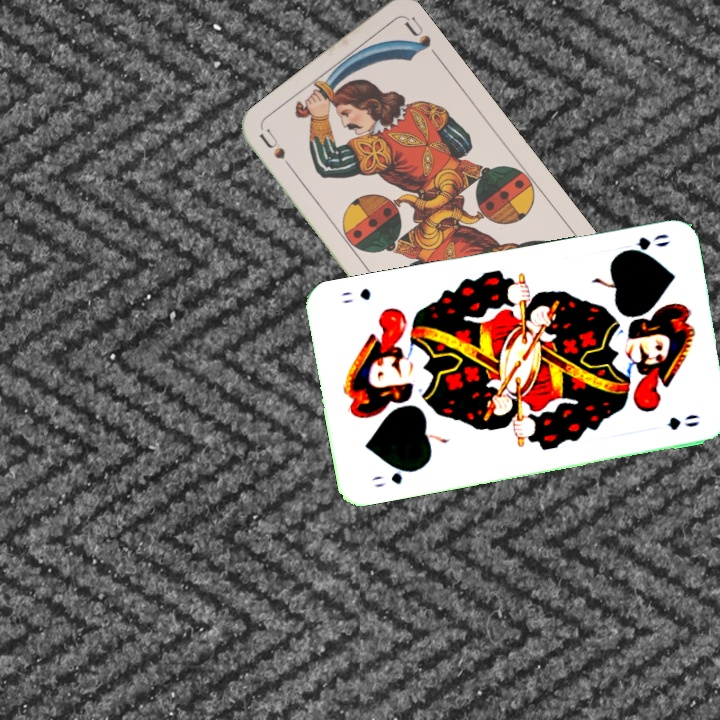GO: (614, 230, 672, 258), (367, 464, 420, 490)
SU: (255, 126, 300, 179)
